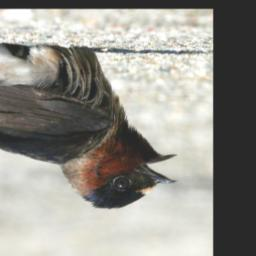Swallow: (0, 40, 181, 210)
